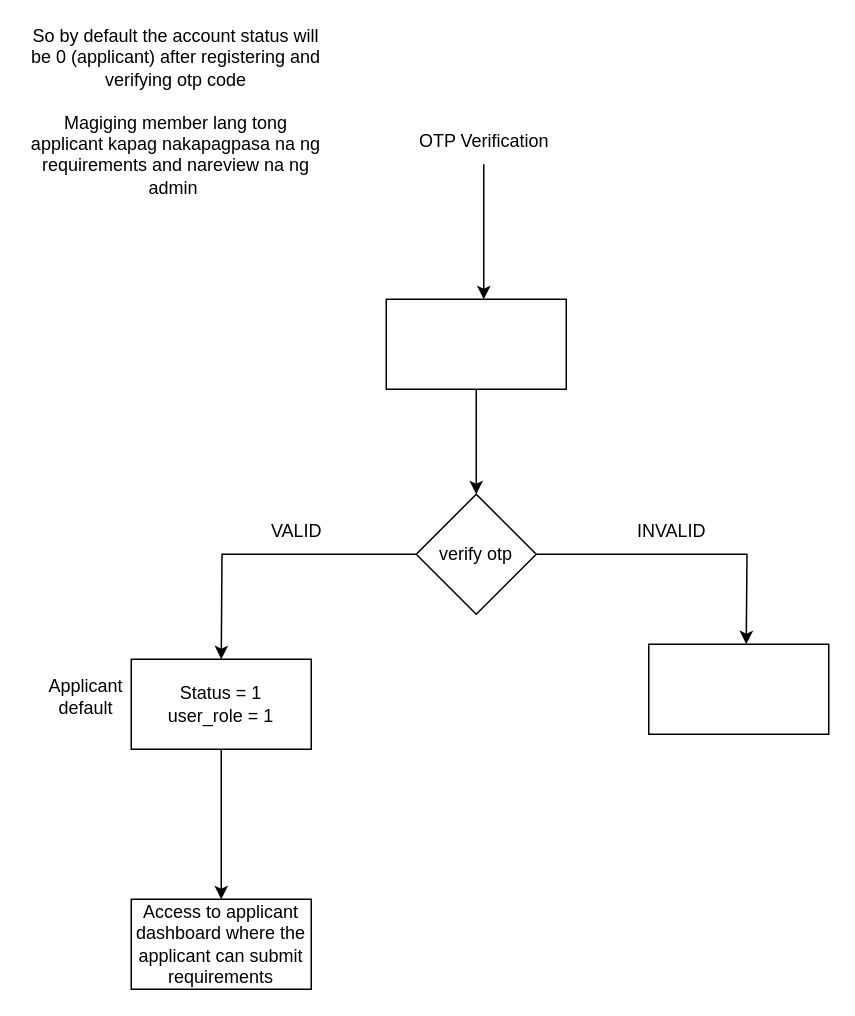
Image size: 855x1016. Some labels were removed from this diagram. The shapes that lost their labels are listed below. From the top down, each one's centre as x and y in pixels, then its label:
[475,343]: Send otp to email
[738,688]: Please enter a valid otp
